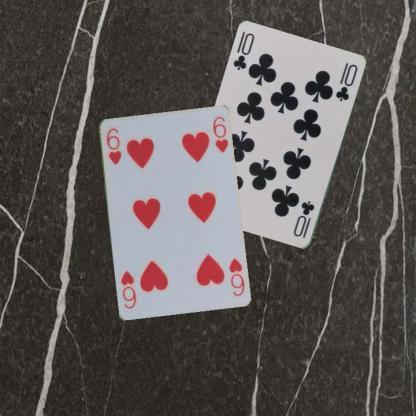10c: (290, 198, 316, 240), (231, 30, 256, 72)
6h: (226, 255, 246, 297), (103, 125, 122, 166)
